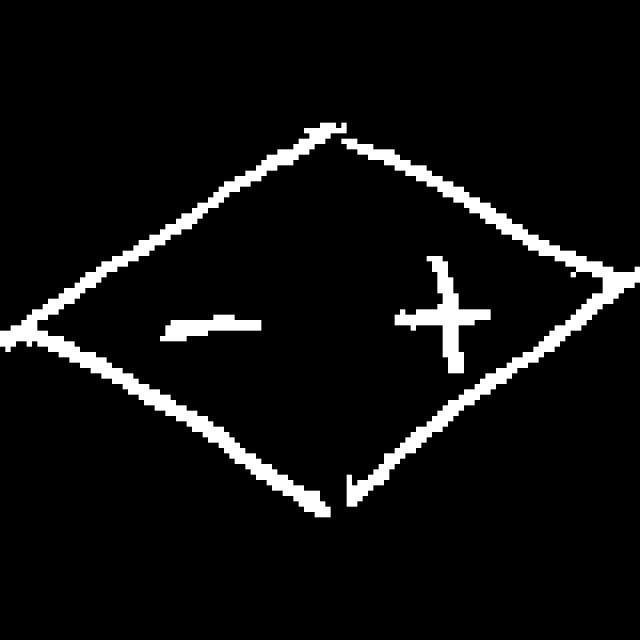dependant_voltage: (22, 122, 629, 522)
